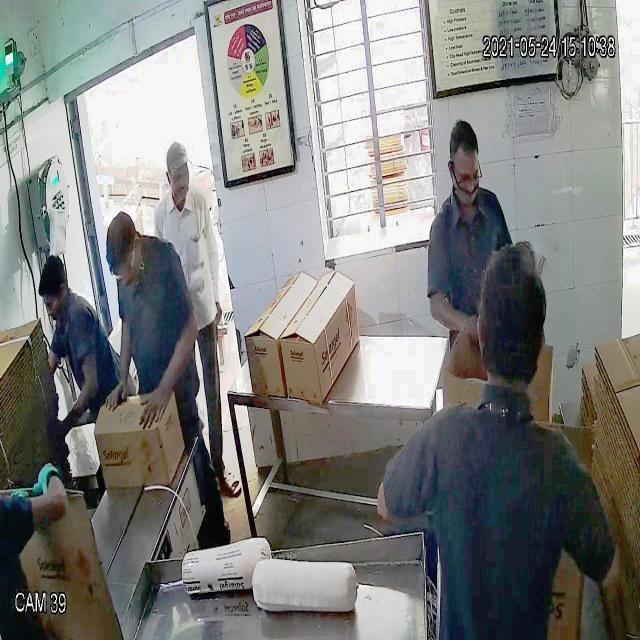glasses: (445, 159, 485, 189)
